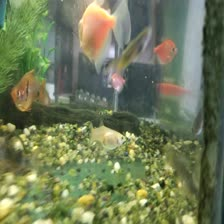Guppy: (88, 123, 140, 149)
Plano: (73, 3, 128, 63), (150, 77, 202, 97), (148, 36, 178, 68)
Transparente: (3, 65, 47, 113)
